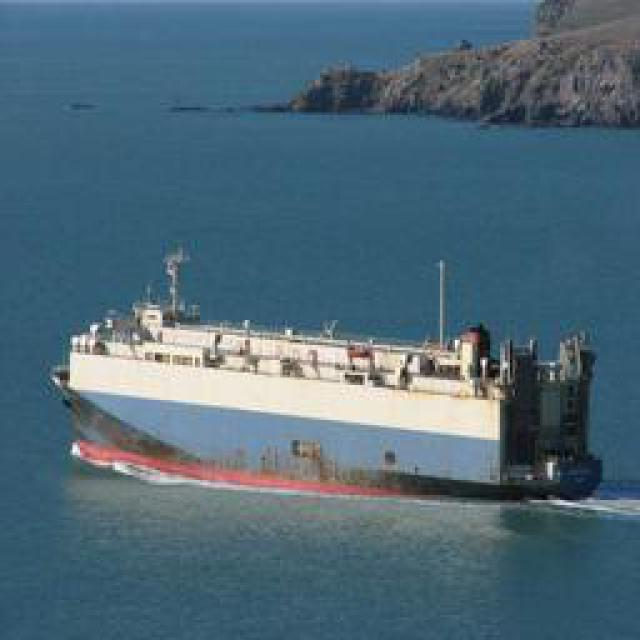Ship: (62, 232, 610, 500)
